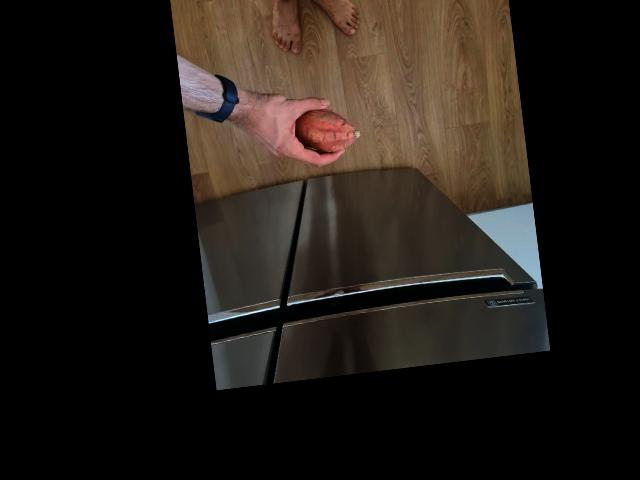sweet_potato: (291, 101, 362, 155)
